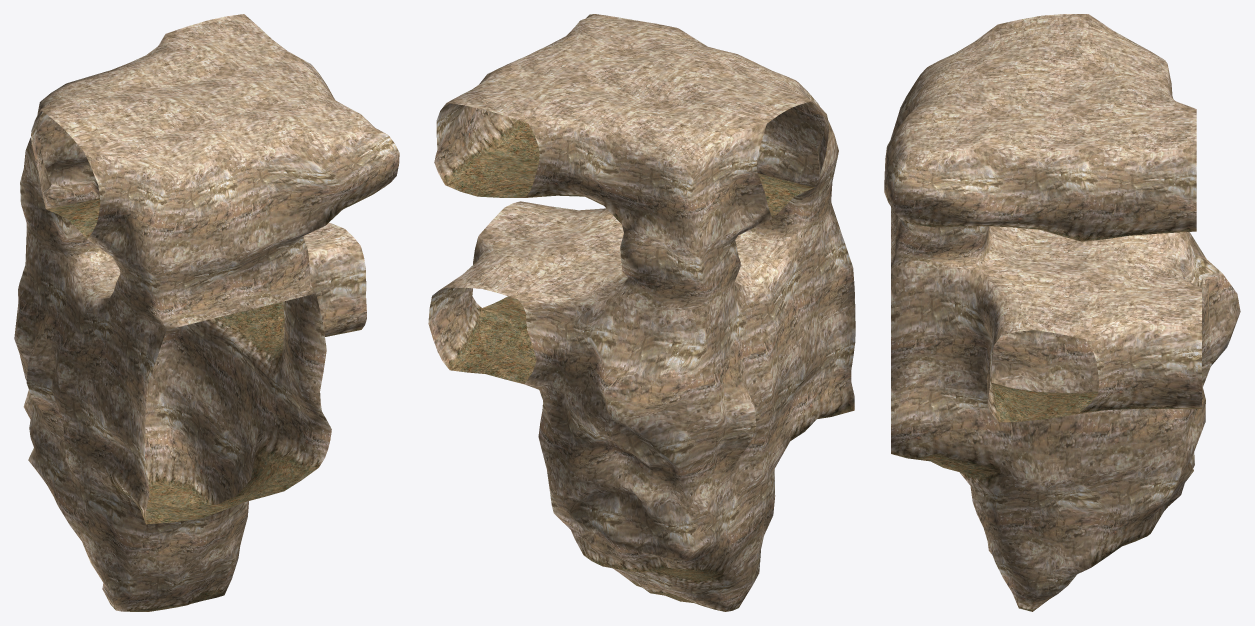
The model's file is thm_all_cave_s02_r5_mesh_r5.fbx.
3 views of the same model, side by side, from view 1: azimuth 30°, elevation 25°; view 2: azimuth 150°, elevation 25°; view 3: azimuth 270°, elevation 25° (orthographic). The views are drawn at different scales.
Visible parts, largest first — view 1: mesh_node; view 2: mesh_node; view 3: mesh_node.
Boxes of the visible parts, <box> form: mesh_node: <box>14,14,399,611</box>; mesh_node: <box>428,14,855,611</box>; mesh_node: <box>884,14,1240,611</box>.
Size of the model in its own units: 34.53 by 59.24 by 36.4.
